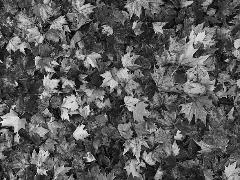organic: (1, 108, 42, 132), (31, 147, 55, 171), (101, 65, 121, 93), (129, 102, 153, 124), (22, 28, 42, 50), (70, 125, 88, 145)
